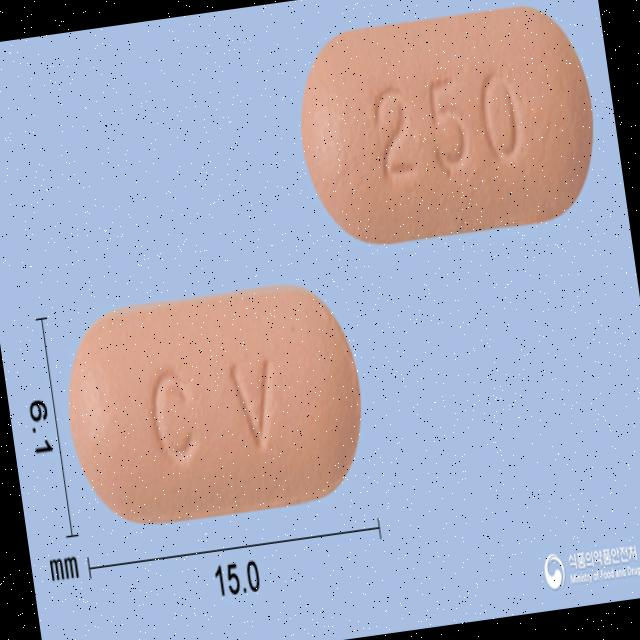Cravit - 500mg: (286, 0, 608, 255), (56, 275, 374, 533)
